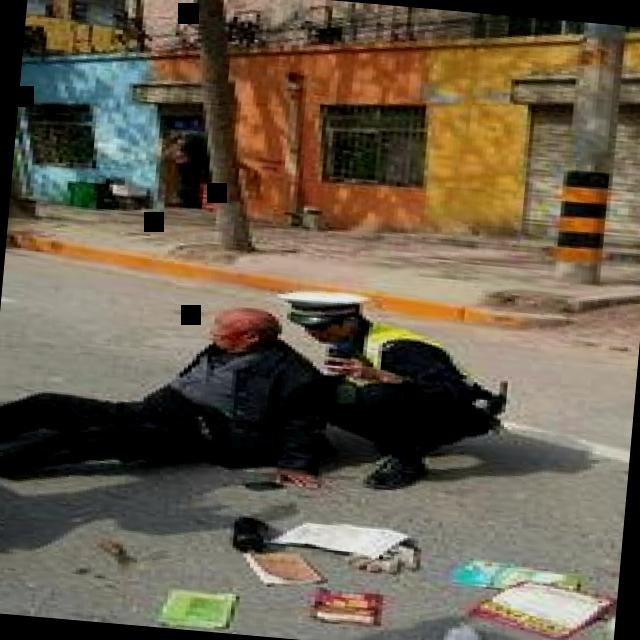Fall-Detected: (0, 267, 341, 524)
